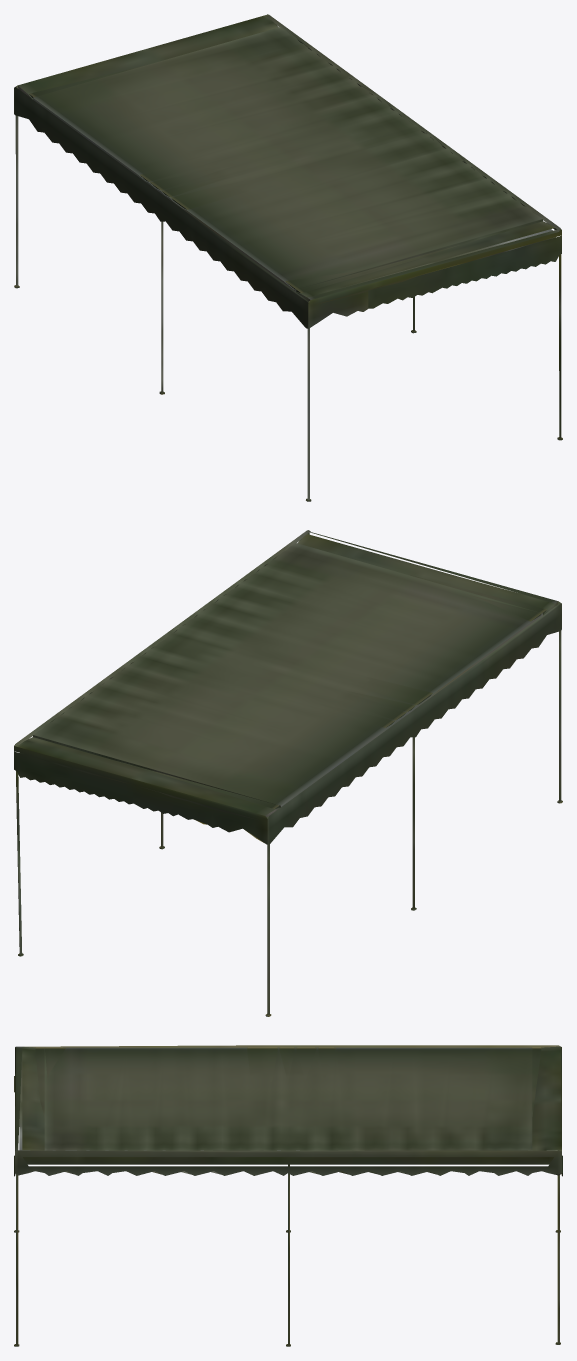
Rendered from tenda_lod2.glb.
3 renders of one model, top to bottom at view 1: azimuth 30°, elevation 25°; view 2: azimuth 150°, elevation 25°; view 3: azimuth 270°, elevation 25°, orthographic. The views are drawn at different scales.
Visible parts, largest first — view 1: tripo_node_efb4cba4; view 2: tripo_node_efb4cba4; view 3: tripo_node_efb4cba4.
Boxes of the visible parts, box(x1,y1,x2,y2) form: tripo_node_efb4cba4: box(14, 14, 562, 501); tripo_node_efb4cba4: box(14, 530, 562, 1016); tripo_node_efb4cba4: box(14, 1045, 562, 1346).
Size of the model in its own units: 49.91 by 39.31 by 100.
1 material, 1 textured.
